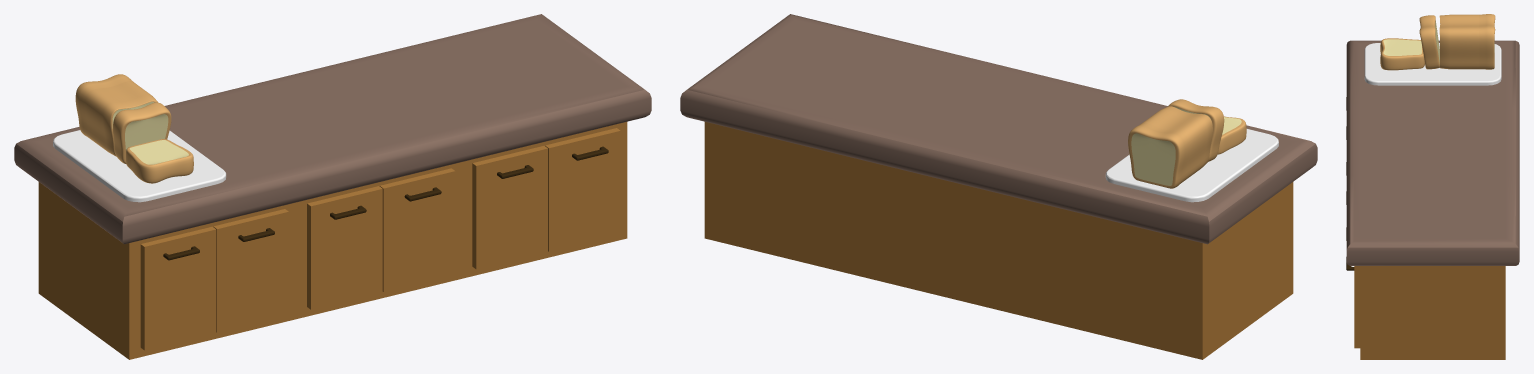
The model's file is bread station 1.fbx.
3 views of the same model, side by side, from view 1: azimuth 30°, elevation 25°; view 2: azimuth 150°, elevation 25°; view 3: azimuth 270°, elevation 25° (orthographic). The views are drawn at different scales.
Parts seen in each view (by area): view 1: counter_cabinet1; view 2: counter_cabinet1; view 3: counter_cabinet1.
Part boxes in pixels (x1,y1,x2,y2): counter_cabinet1: (14, 14, 651, 359); counter_cabinet1: (680, 14, 1317, 359); counter_cabinet1: (1346, 14, 1519, 359).
Size of the model in its own units: 308 by 115 by 109.
6 materials, 5 textured.
